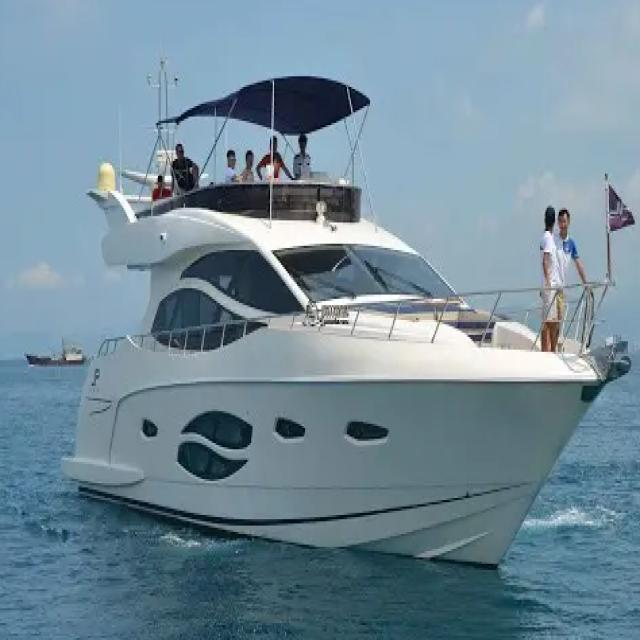houseboat: (56, 49, 637, 578)
